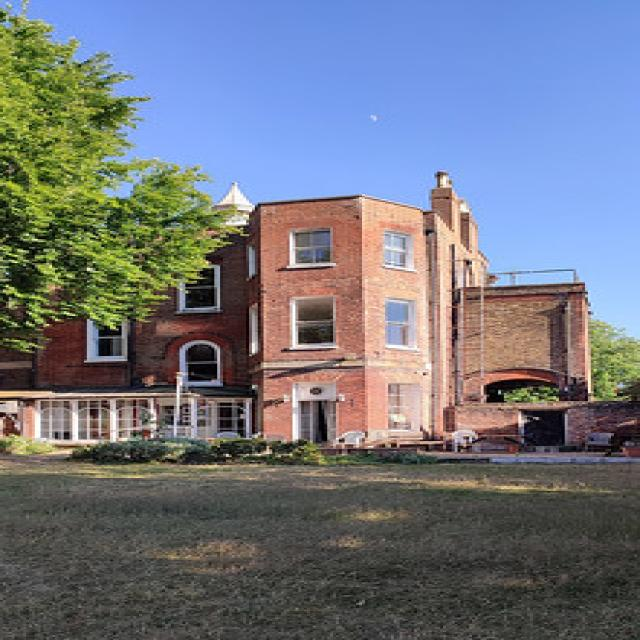building: (23, 165, 597, 465)
